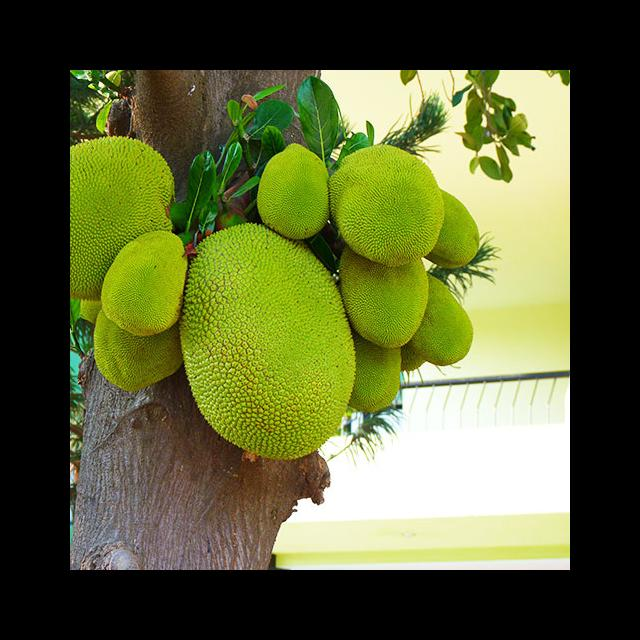mit: (185, 223, 358, 462), (71, 133, 177, 295), (327, 144, 442, 270), (337, 249, 432, 349), (103, 234, 184, 334), (255, 140, 335, 241), (91, 313, 184, 393), (426, 274, 473, 364), (349, 344, 404, 414), (438, 185, 479, 275)
